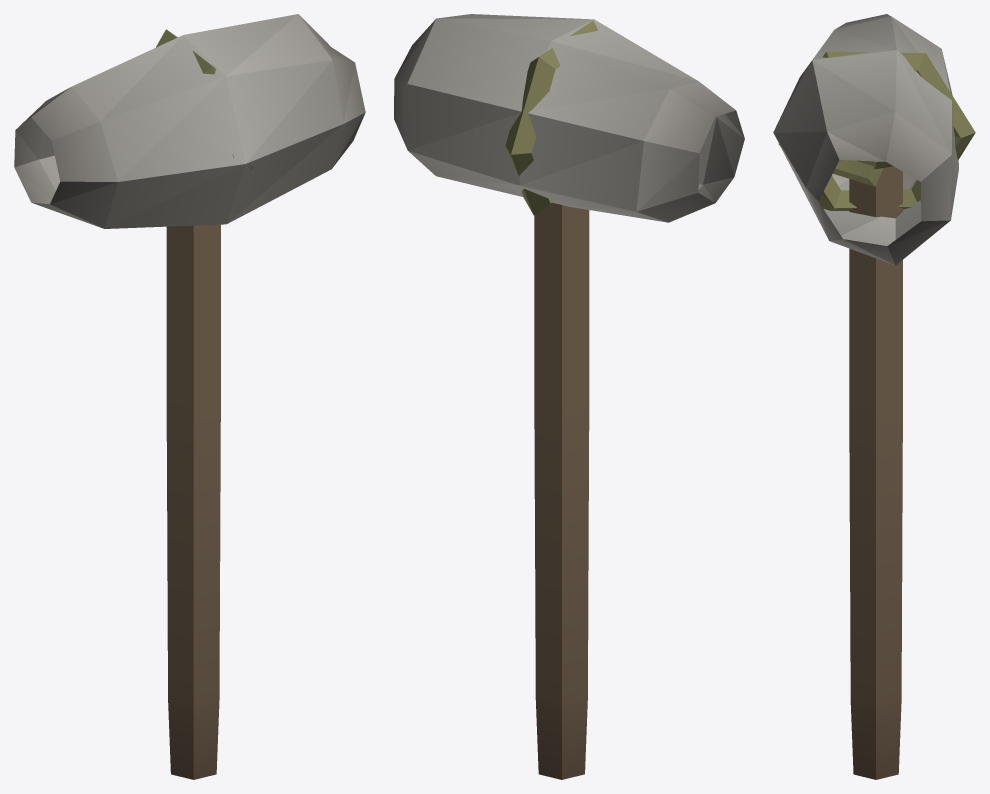
Rendered from hammer_a.glb.
The picture shows the model from 3 angles, left to right: view 1: azimuth 30°, elevation 25°; view 2: azimuth 150°, elevation 25°; view 3: azimuth 270°, elevation 25°; orthographic projection. The views are drawn at different scales.
Visible parts, largest first — view 1: hammer_a; view 2: hammer_a; view 3: hammer_a.
Part boxes in pixels (bbox=[...]): hammer_a: bbox=[14, 14, 365, 779]; hammer_a: bbox=[394, 14, 744, 779]; hammer_a: bbox=[773, 14, 975, 779].
Size of the model in its own units: 0.21 by 0.4857 by 0.124.
